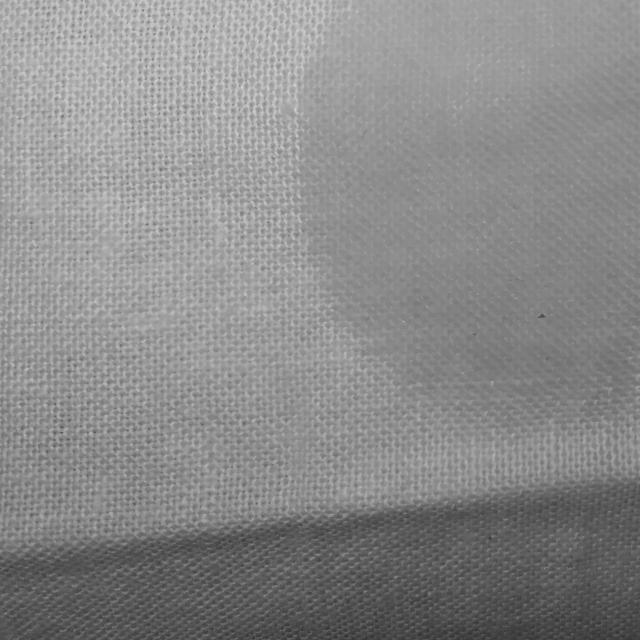Stain: (302, 0, 638, 433)
